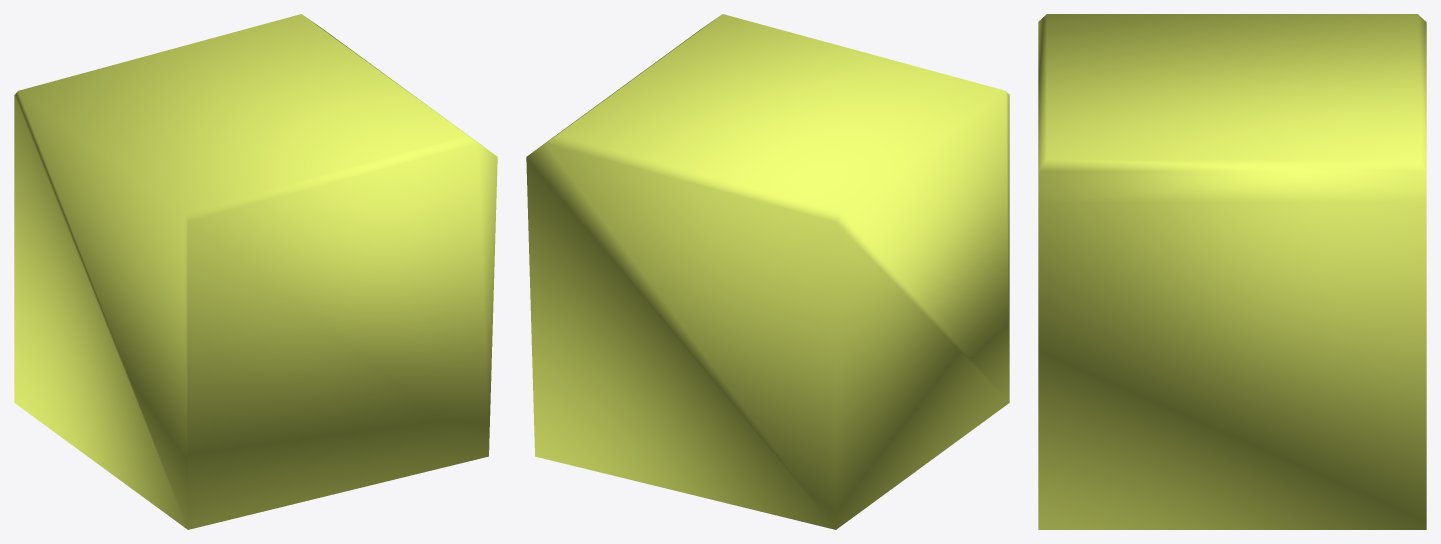
3 views of the same model, side by side, from view 1: azimuth 30°, elevation 25°; view 2: azimuth 150°, elevation 25°; view 3: azimuth 270°, elevation 25° (orthographic). The views are drawn at different scales.
Visible parts, largest first — view 1: Cube; view 2: Cube; view 3: Cube.
Part boxes in pixels (bbox=[...]): Cube: bbox=[14, 14, 497, 529]; Cube: bbox=[526, 14, 1009, 529]; Cube: bbox=[1038, 14, 1426, 529].
Size of the model in its own units: 206 by 205 by 200.
